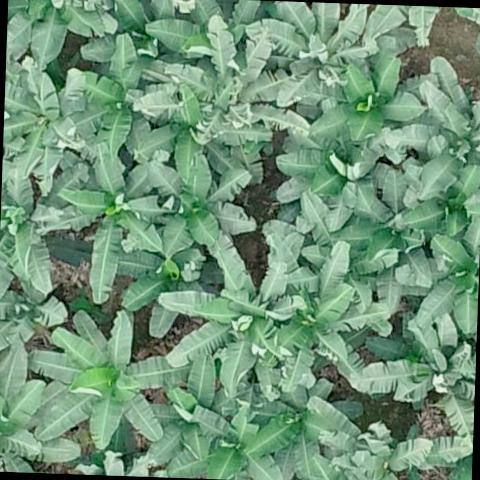Banana-plant: (156, 231, 302, 396), (25, 314, 174, 452), (163, 15, 314, 145), (55, 143, 158, 308), (276, 242, 389, 386), (130, 127, 256, 255), (348, 322, 477, 446), (250, 1, 376, 110), (400, 52, 480, 203), (246, 380, 363, 480), (336, 177, 437, 288), (76, 34, 170, 152), (2, 66, 94, 184), (302, 206, 398, 316), (0, 343, 81, 473), (168, 398, 283, 480), (314, 58, 426, 142), (115, 243, 208, 341), (416, 209, 480, 336), (276, 123, 382, 199), (0, 169, 61, 301), (136, 89, 222, 181), (5, 0, 117, 69), (146, 358, 220, 462), (144, 0, 261, 64), (334, 418, 429, 480), (405, 161, 480, 233), (0, 284, 71, 351)
